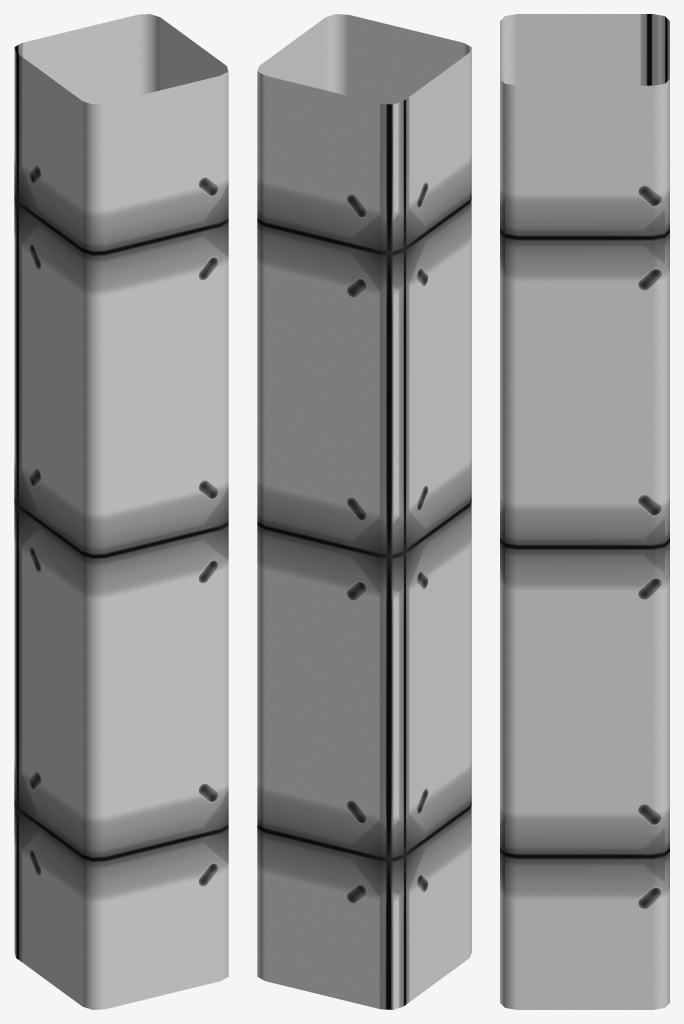
File: MDL_Trim_1X3.fbx
3 views of the same model, side by side, from view 1: azimuth 30°, elevation 25°; view 2: azimuth 150°, elevation 25°; view 3: azimuth 270°, elevation 25° (orthographic). The views are drawn at different scales.
Visible parts, largest first — view 1: trim1x3; view 2: trim1x3; view 3: trim1x3.
Part boxes in pixels (x1,y1,x2,y2): trim1x3: (14, 14, 228, 1009); trim1x3: (257, 14, 471, 1009); trim1x3: (500, 14, 669, 1009).
Size of the model in its own units: 0.5 by 3 by 0.5.
